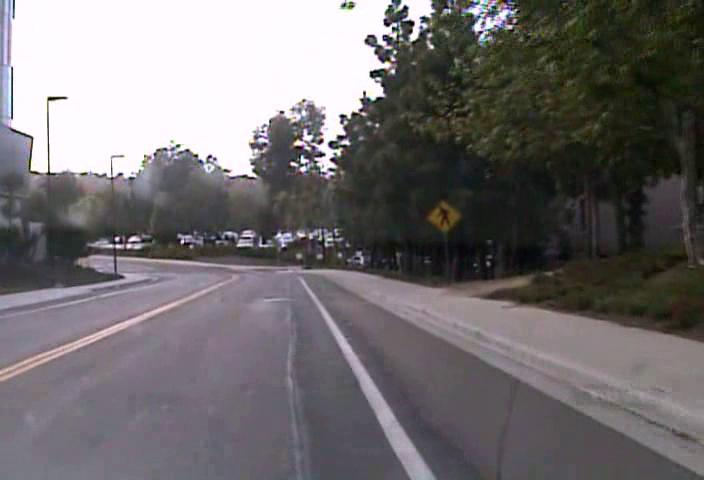pedestrianCrossing: (425, 199, 462, 234)
